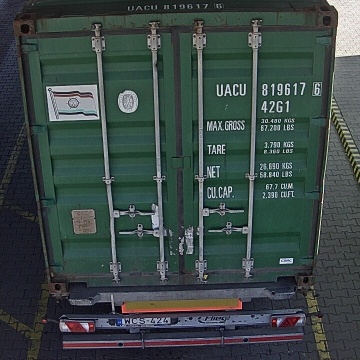serial_id: (216, 82, 322, 95)
